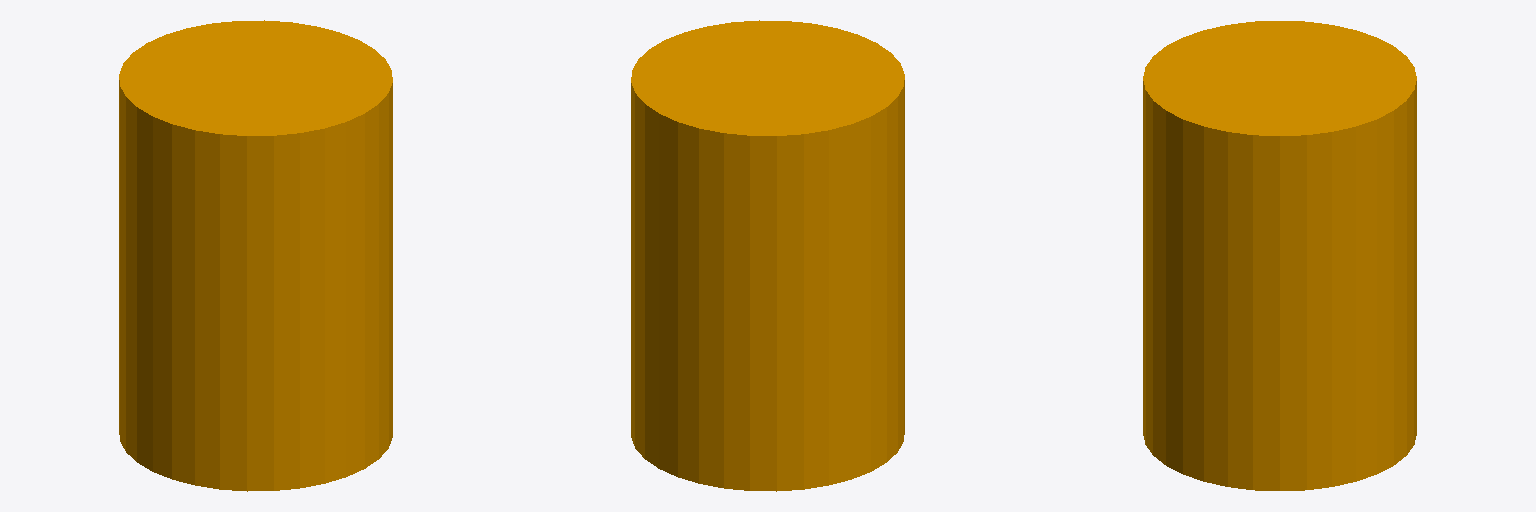
The robot description file, URDF, robot "pepe":
<?xml version="1.0"?><robot name="pepe">
	<link name="0">
		<visual>
			<geometry>
				<cylinder length="2.072882493235103" radius="0.7252724422727678"/>
			</geometry>
		</visual>
		<collision>
			<geometry>
				<cylinder length="2.072882493235103" radius="0.7252724422727678"/>
			</geometry>
		</collision>
		<inertial>
			<mass value="3.425523164310291"/>
			<inertia ixx="0.03" iyy="0.03" izz="0.03" ixy="0" ixz="0" iyx="0"/>
		</inertial>
	</link>
</robot>

--- What the picture shows (computed from the rendered views, not written in the file) ---
3 views of the same robot in one strip: view 1: azimuth 30°, elevation 25°; view 2: azimuth 150°, elevation 25°; view 3: azimuth 270°, elevation 25° (orthographic).
Model pepe with 1 links and 0 joints (none), rooted at 0, posed every joint at zero.
Links seen in each view (by area): view 1: 0; view 2: 0; view 3: 0.
Link boxes in pixels (x1,y1,x2,y2): 0: (119,20,392,491); 0: (631,20,904,491); 0: (1143,21,1416,490).
Bounding box of the posed robot: 1.45 × 1.45 × 2.07 m (x, y, z).
Geometry: primitives only (box / cylinder / sphere), no mesh files.